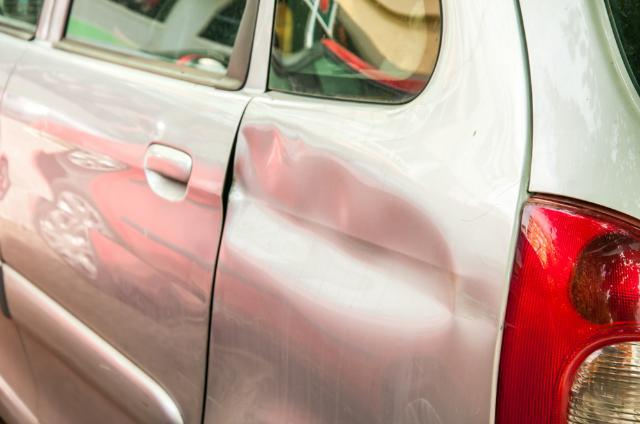dent: (221, 123, 501, 339), (30, 116, 145, 277), (168, 279, 205, 307)
